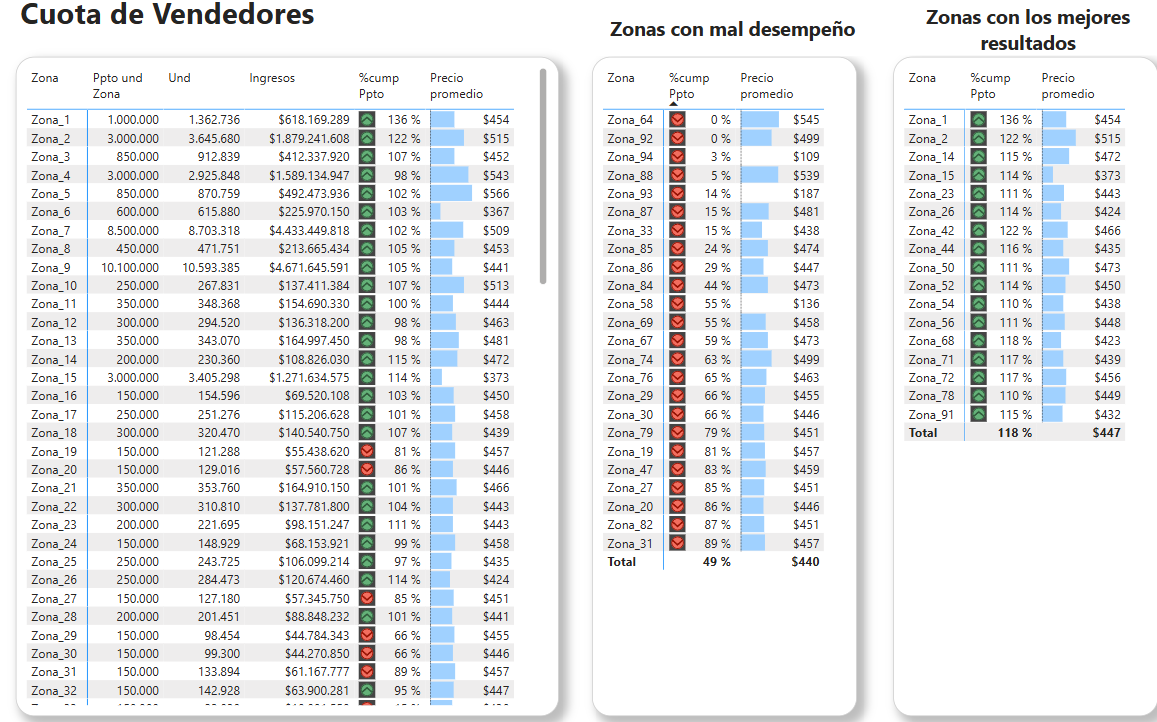

What the dashboard file says about the page in this screenshot:
{"tool":"powerbi","page":{"name":"Vendedores","canvas":[1280,800],"ordinal":1},"visuals":[{"type":"textbox","box":[25.7,0,380.6,74.1],"z":0},{"type":"pivotTable","fields":{"Values":["Sum(zona_ppto.ppto_zona)","flash_bi_limpio (2).Cantidadneta","Sum(flash_bi_limpio (2).facturado_real)","flash_bi_limpio (2).%cump_ppto_zona","flash_bi_limpio (2).Precio_promedio"],"Rows":["zona_ppto.zona"]},"box":[25.7,74.1,590.1,717],"z":1000},{"type":"pivotTable","fields":{"Values":["flash_bi_limpio (2).%cump_ppto_zona","flash_bi_limpio (2).Precio_promedio"],"Rows":["zona_ppto.zona"]},"box":[979.2,74.1,287.9,717],"z":2000},{"type":"pivotTable","fields":{"Values":["flash_bi_limpio (2).%cump_ppto_zona","flash_bi_limpio (2).Precio_promedio"],"Rows":["zona_ppto.zona"]},"box":[652.8,74.1,287.9,717],"z":3000},{"type":"textbox","box":[630,24.2,349.2,49.9],"z":4000},{"type":"textbox","box":[979.2,11.4,300.8,62.7],"z":5000}]}

Visuals, with their boxes in screenshot pixels (x1, y1, x2, y2), scaled from the page's 1280x800 canvas onto the 1157x722 screenshot:
textbox: bbox(23, 0, 367, 67)
pivotTable - Sum(zona_ppto.ppto_zona) x flash_bi_limpio (2).Cantidadneta: bbox(23, 67, 557, 714)
pivotTable - flash_bi_limpio (2).%cump_ppto_zona x flash_bi_limpio (2).Precio_promedio: bbox(885, 67, 1145, 714)
pivotTable - flash_bi_limpio (2).%cump_ppto_zona x flash_bi_limpio (2).Precio_promedio: bbox(590, 67, 850, 714)
textbox: bbox(569, 22, 885, 67)
textbox: bbox(885, 10, 1156, 67)
